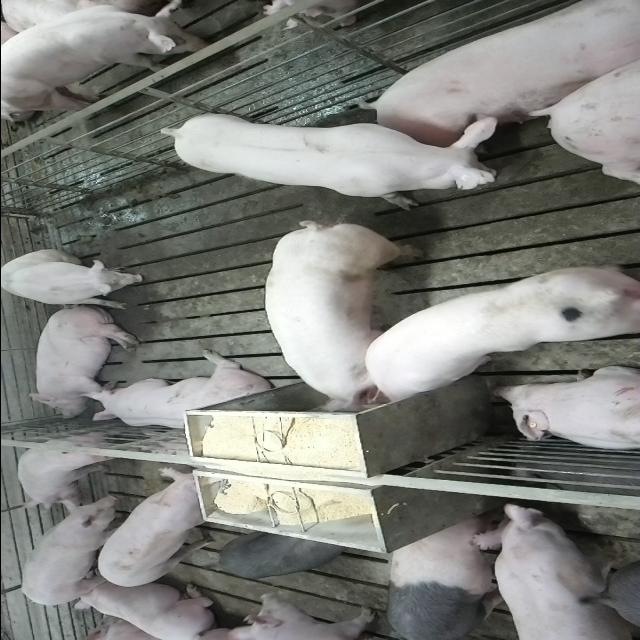Feeding: (358, 264, 636, 408), (262, 216, 422, 412)
Lateral_lying: (22, 304, 140, 418)
Sitting: (0, 250, 147, 308)
Standing: (154, 109, 511, 210), (0, 0, 212, 115), (470, 502, 640, 639), (382, 514, 509, 638), (94, 470, 222, 590), (20, 495, 134, 609), (15, 434, 131, 512), (217, 530, 351, 580)
Sternal_lying: (80, 353, 274, 432), (492, 368, 640, 454), (72, 582, 220, 638)
